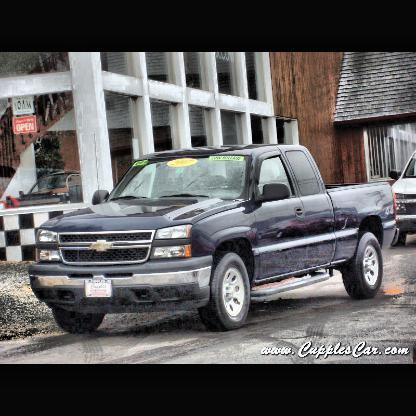Chevrolet Silverado 1500 Classic Extended Cab 2007: (26, 145, 403, 335)
